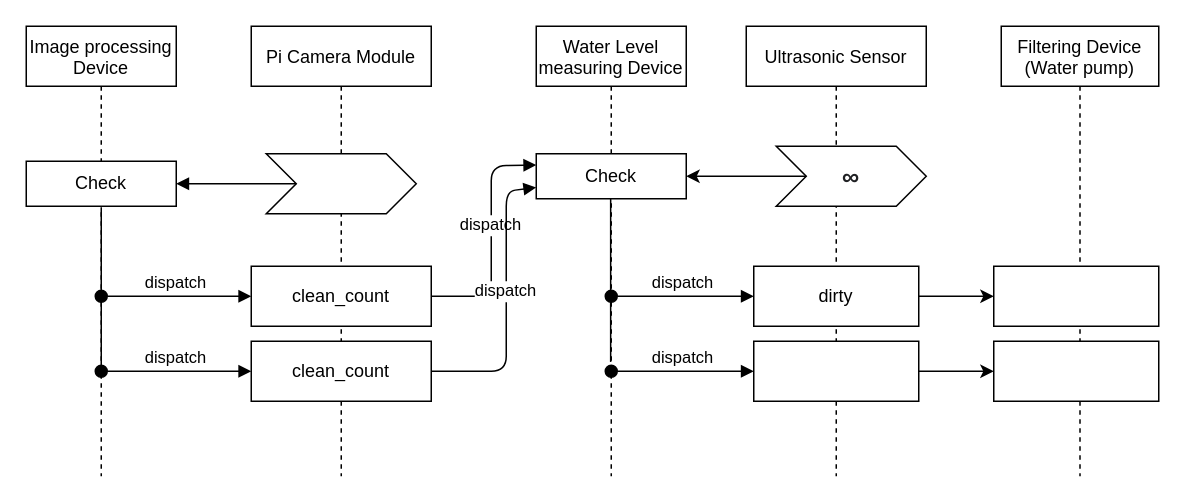
The diagram is 1185 pixels wide and 503 high, and some of its shapes have lost their labels. The centre of each missing label's shape, as x and y in pixels:
"1min" belongs at (x=340, y=183).
"clean" belongs at (x=835, y=370).
"off" belongs at (x=1075, y=370).
"on" belongs at (x=1075, y=295).
